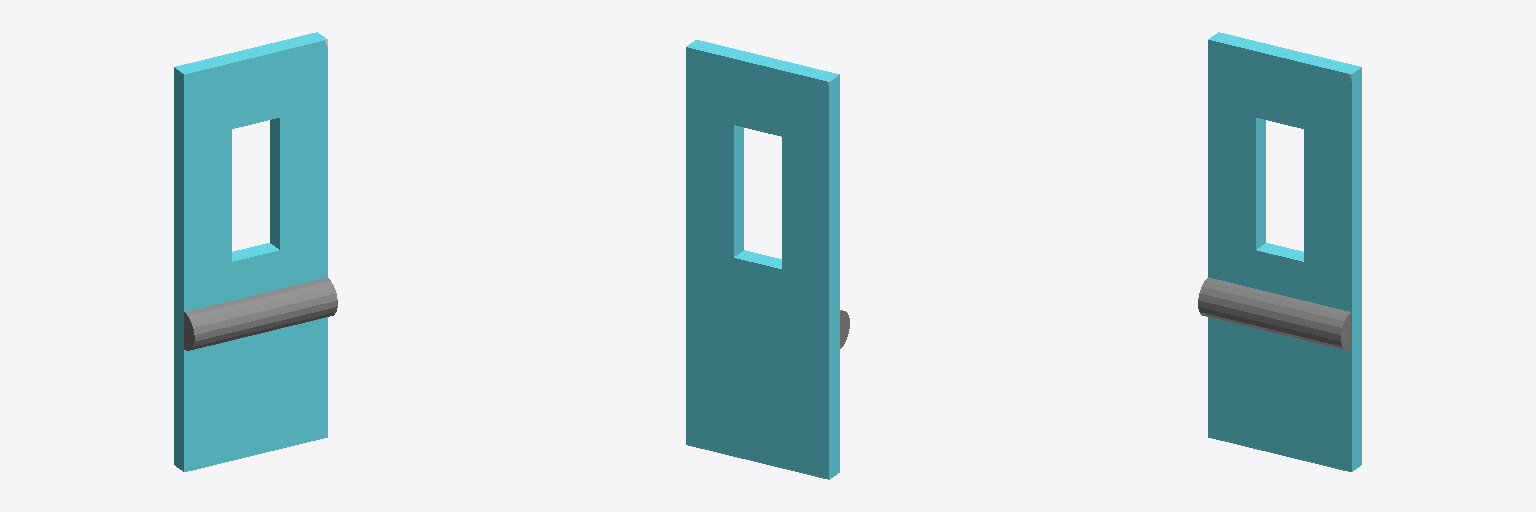
The picture shows the model from 3 angles: view 1: azimuth 30°, elevation 25°; view 2: azimuth 150°, elevation 25°; view 3: azimuth 330°, elevation 25°; orthographic projection.
Parts seen in each view (by area): view 1: Box001, Cylinder002; view 2: Box001; view 3: Box001, Cylinder002.
Boxes of the visible parts, <box> form: Box001: <box>174,32,327,471</box>; Cylinder002: <box>184,277,337,350</box>; Box001: <box>686,40,839,479</box>; Box001: <box>1208,32,1361,471</box>; Cylinder002: <box>1198,277,1350,350</box>.
Bounding box in the file's own units: 31.5 × 83.46 × 7.82.
3 materials, 2 textured.